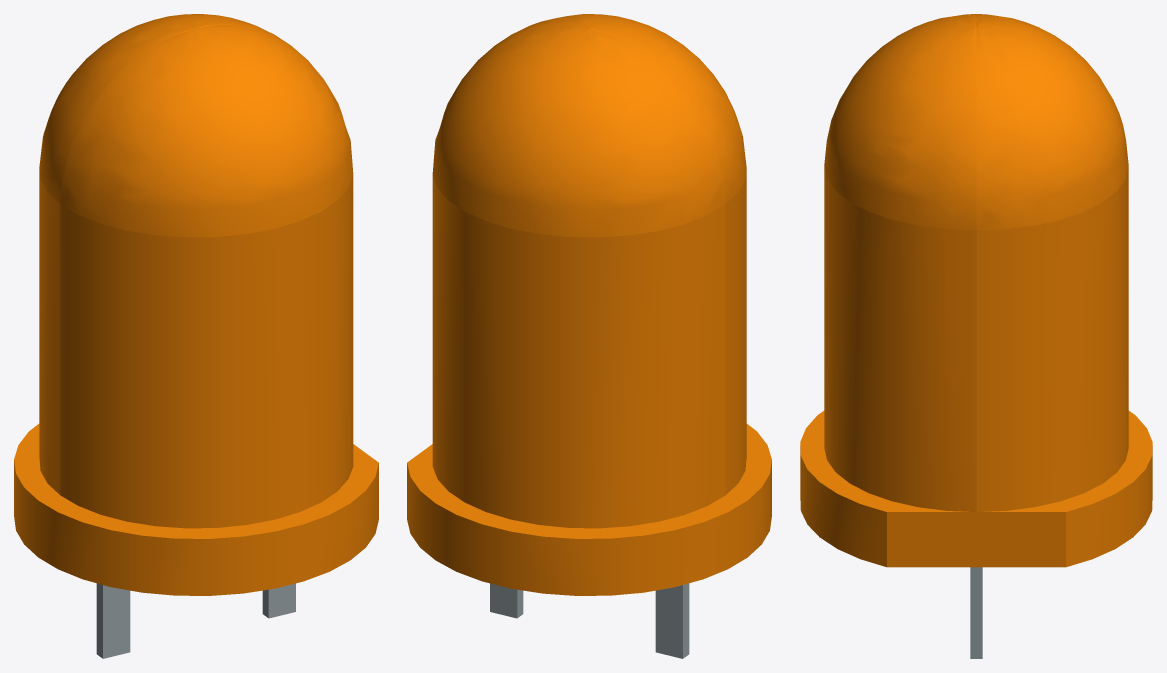
Rendered from sfe-led_pth_5mm_orange.glb.
3 renders of one model, left to right at view 1: azimuth 30°, elevation 25°; view 2: azimuth 150°, elevation 25°; view 3: azimuth 270°, elevation 25°, orthographic. The views are drawn at different scales.
Parts seen in each view (by area): view 1: 0.9166666666666666_0.25_0_0, 0.3333333333333333_0.4166666666666667_0.4166666666666667_0; view 2: 0.9166666666666666_0.25_0_0, 0.3333333333333333_0.4166666666666667_0.4166666666666667_0; view 3: 0.9166666666666666_0.25_0_0, 0.3333333333333333_0.4166666666666667_0.4166666666666667_0.
Part boxes in pixels (x1=…): 0.9166666666666666_0.25_0_0: x1=14, y1=14, x2=378, y2=595; 0.3333333333333333_0.4166666666666667_0.4166666666666667_0: x1=96, y1=583, x2=295, y2=658; 0.9166666666666666_0.25_0_0: x1=407, y1=14, x2=771, y2=595; 0.3333333333333333_0.4166666666666667_0.4166666666666667_0: x1=490, y1=583, x2=689, y2=658; 0.9166666666666666_0.25_0_0: x1=800, y1=14, x2=1152, y2=567; 0.3333333333333333_0.4166666666666667_0.4166666666666667_0: x1=970, y1=567, x2=982, y2=658.
Bounding box in the file's own units: 0.54 × 1.06 × 0.5782.
